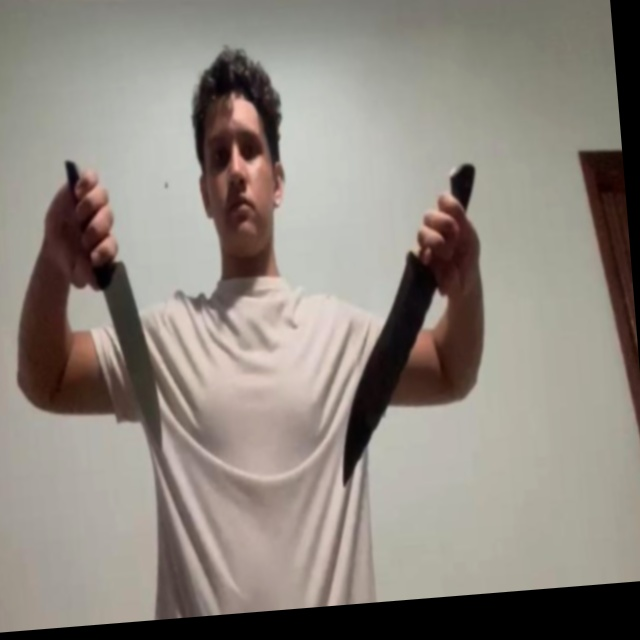Sharp-Object: (326, 250, 452, 485), (95, 257, 166, 453)
